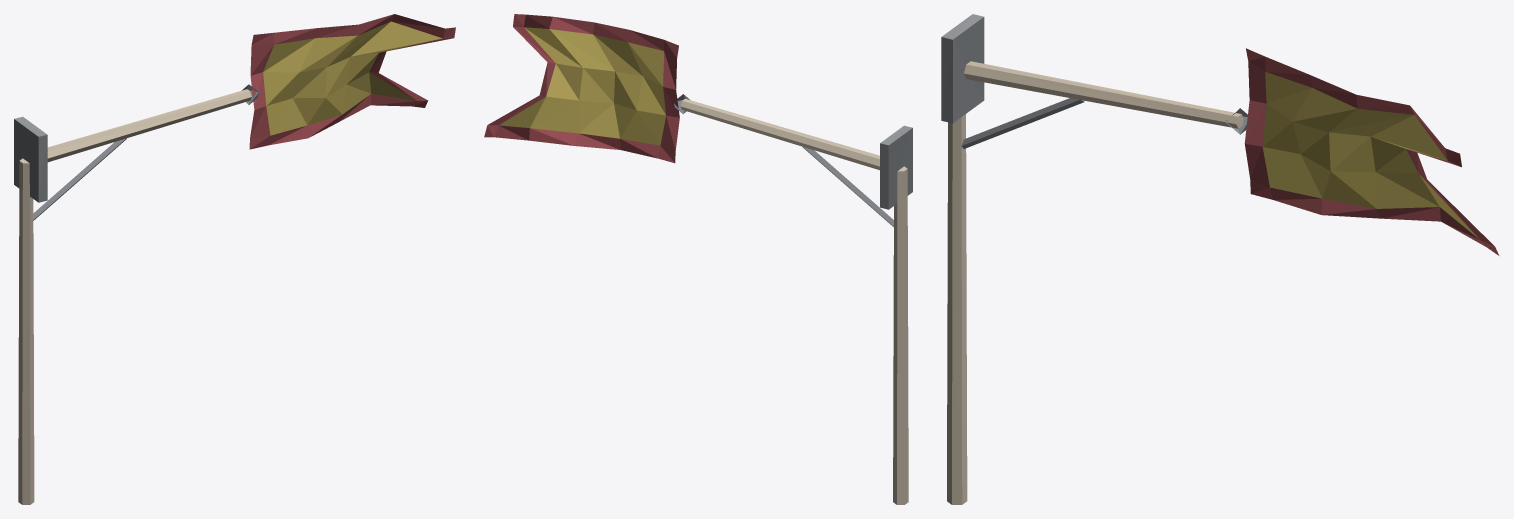
File: flag.swallowtail.jinyan__pole.horizontal.xiecheng__armFly.glb
The picture shows the model from 3 angles, left to right: view 1: azimuth 30°, elevation 25°; view 2: azimuth 150°, elevation 25°; view 3: azimuth 330°, elevation 25°; orthographic projection. The views are drawn at different scales.
Visible parts, largest first — view 1: flag.swallowtail.jinyan; view 2: flag.swallowtail.jinyan; view 3: flag.swallowtail.jinyan.
Part boxes in pixels (x1,y1,x2,y2): flag.swallowtail.jinyan: [14, 14, 455, 504]; flag.swallowtail.jinyan: [484, 14, 912, 504]; flag.swallowtail.jinyan: [941, 14, 1499, 504].
Bounding box in the file's own units: 3.72 × 3.5 × 0.5501.
